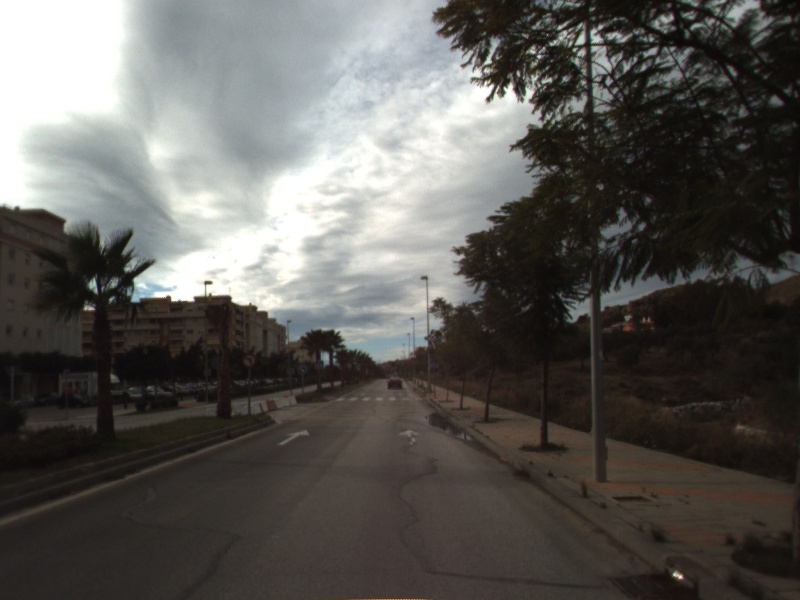STRAIGHT: (275, 427, 312, 447), (396, 427, 422, 447)
